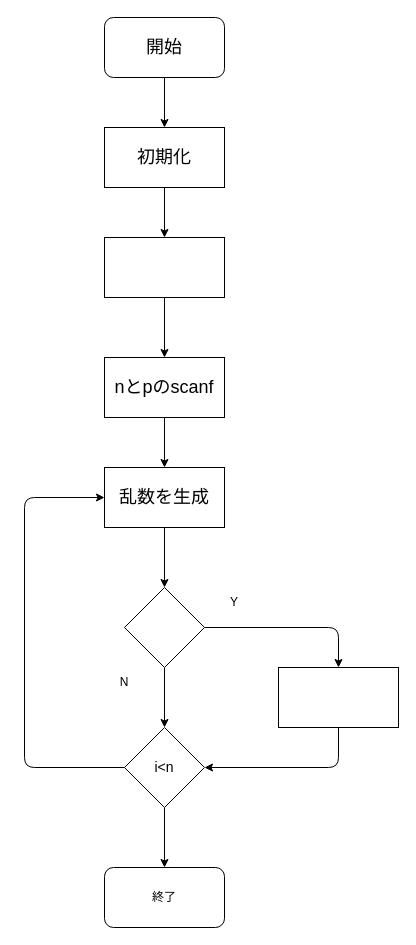
This 416x945 diagram has some shape labels left out. The shapes that lost their labels are listed below. From the top down, each one's box as (x1, y1, x2, y2) in pixels, then its label:
(104, 236, 224, 298): fopen
(124, 586, 204, 668): 乱数<ｐ
(278, 666, 398, 728): count++
